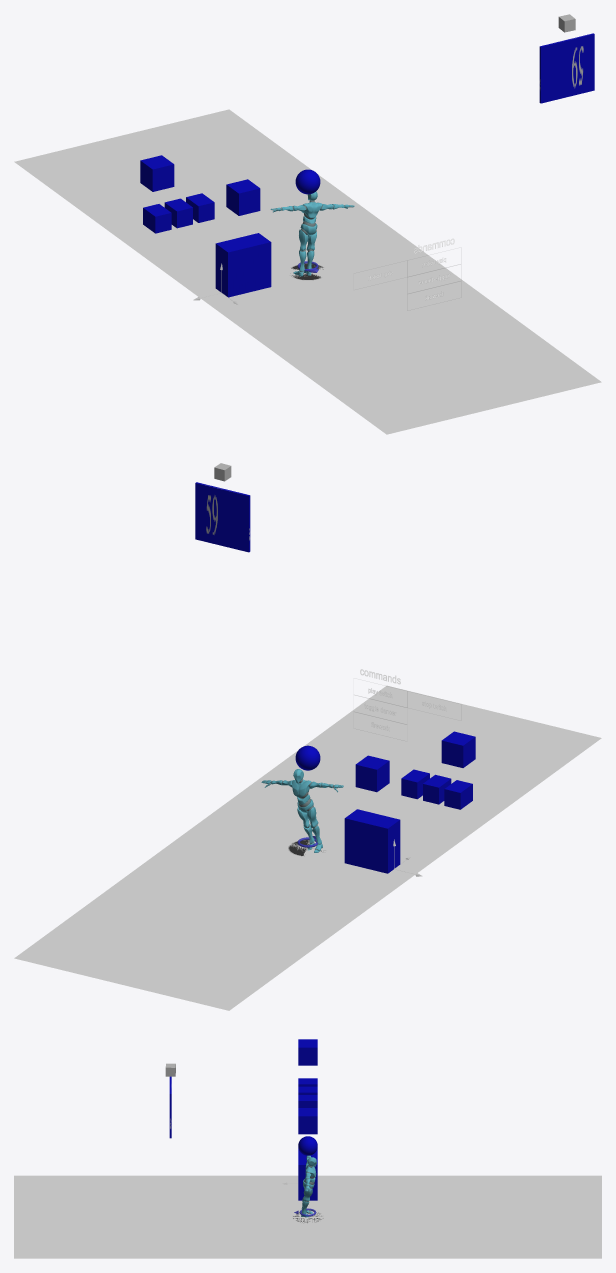
The model's file is beat_club_scene_blender_no_anim.glb.
3 views of the same model, one above another, from view 1: azimuth 30°, elevation 25°; view 2: azimuth 150°, elevation 25°; view 3: azimuth 270°, elevation 25° (orthographic). The views are drawn at different scales.
Visible parts, largest first — view 1: ground, fps-panel, kick-twitch, Alpha_Surface.001, crash-twitch, snare-twitch, tom-3-twitch, tom-1-twitch, tom-2-twitch; view 2: ground, fps-panel, kick-twitch, Alpha_Surface.001, crash-twitch, snare-twitch; view 3: ground, kick-twitch, Alpha_Surface.001, snare-twitch, crash-twitch, hi-hat-twitch.
Boxes of the visible parts, x1=… form: ground: x1=14, y1=109, x2=601, y2=434; fps-panel: x1=539, y1=33, x2=594, y2=103; kick-twitch: x1=215, y1=233, x2=271, y2=297; Alpha_Surface.001: x1=270, y1=191, x2=354, y2=276; crash-twitch: x1=140, y1=155, x2=174, y2=191; snare-twitch: x1=226, y1=179, x2=260, y2=215; tom-3-twitch: x1=143, y1=204, x2=171, y2=233; tom-1-twitch: x1=186, y1=193, x2=214, y2=222; tom-2-twitch: x1=164, y1=198, x2=192, y2=228; ground: x1=14, y1=685, x2=601, y2=1010; fps-panel: x1=195, y1=482, x2=250, y2=552; kick-twitch: x1=344, y1=809, x2=400, y2=873; Alpha_Surface.001: x1=261, y1=769, x2=343, y2=852; crash-twitch: x1=441, y1=731, x2=475, y2=767; snare-twitch: x1=355, y1=755, x2=389, y2=792; ground: x1=14, y1=1175, x2=601, y2=1258; kick-twitch: x1=298, y1=1148, x2=317, y2=1200; Alpha_Surface.001: x1=301, y1=1155, x2=316, y2=1217; snare-twitch: x1=298, y1=1108, x2=317, y2=1134; crash-twitch: x1=298, y1=1039, x2=317, y2=1065; hi-hat-twitch: x1=298, y1=1136, x2=317, y2=1155.
Bounding box in the file's own units: 16.75 × 12.35 × 30.
Materials: 11 (3 with a texture image).
